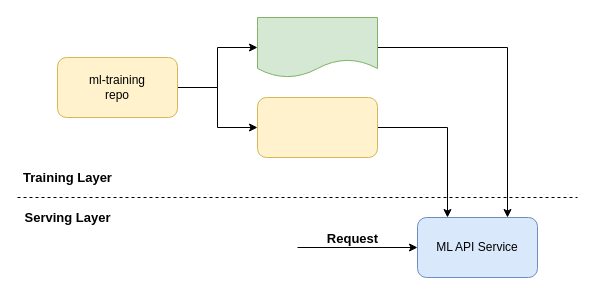
Some shapes in this 596 by 295 pixel diagram are drawn without their labels. Each missing label, with the centre of its shape:
Inference package: [317,127]
model artifacts: [317,47]
